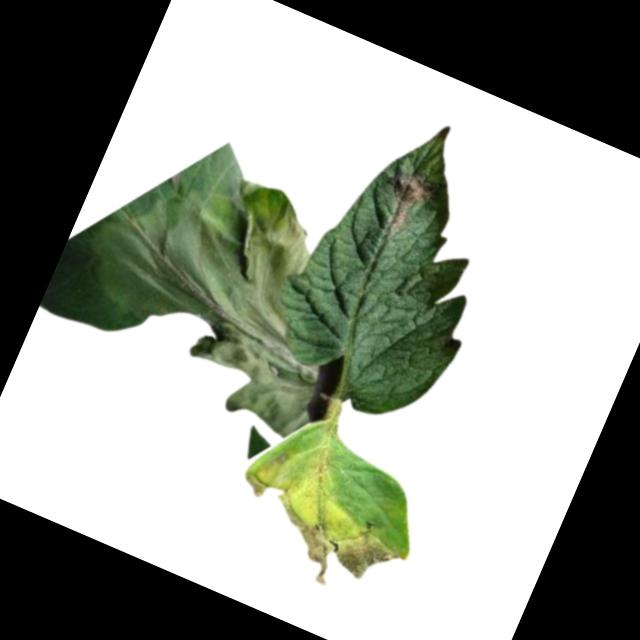Late_blight: (48, 135, 377, 434), (225, 428, 427, 609), (372, 161, 436, 241)
